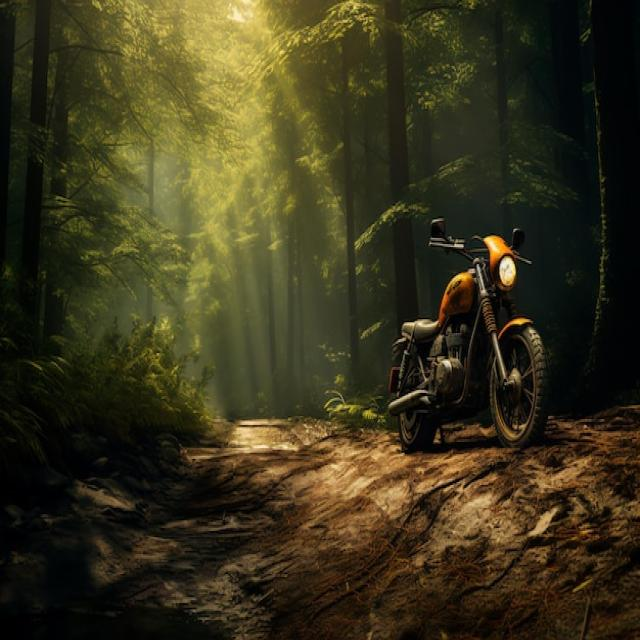Bike: (392, 222, 546, 454)
